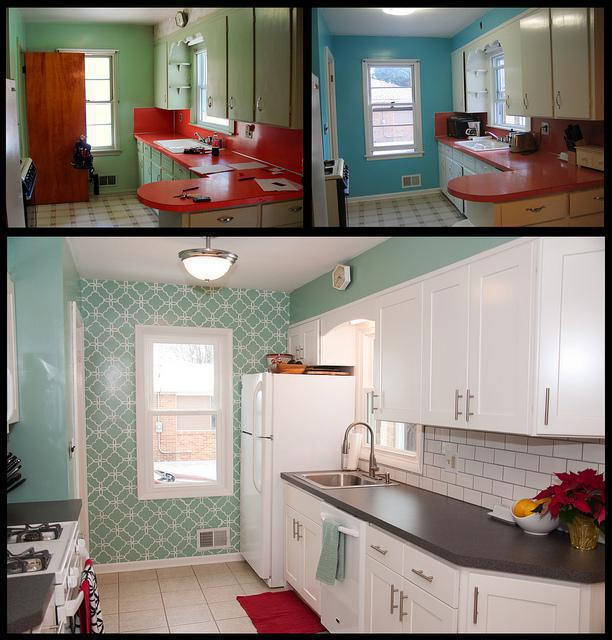Lavaplatos: (290, 413, 398, 491), (455, 119, 516, 153), (151, 126, 217, 156)
